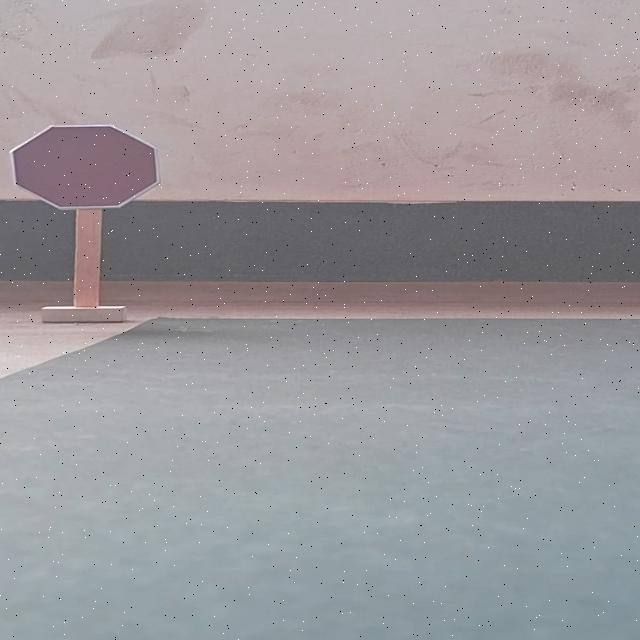Stop: (10, 124, 164, 210)
